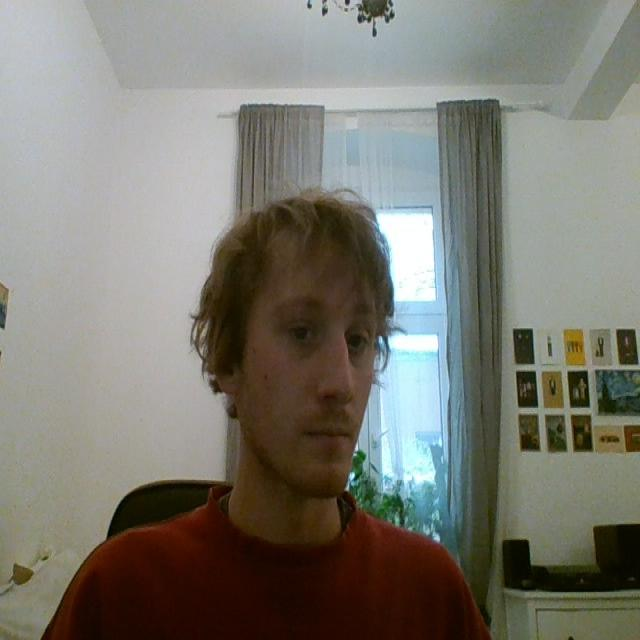eye: (285, 317, 322, 348), (343, 323, 371, 358)
gaze: (296, 326, 308, 340), (352, 336, 361, 347)
